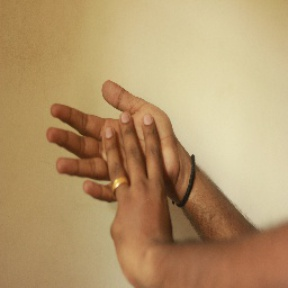M: (45, 69, 192, 231)
